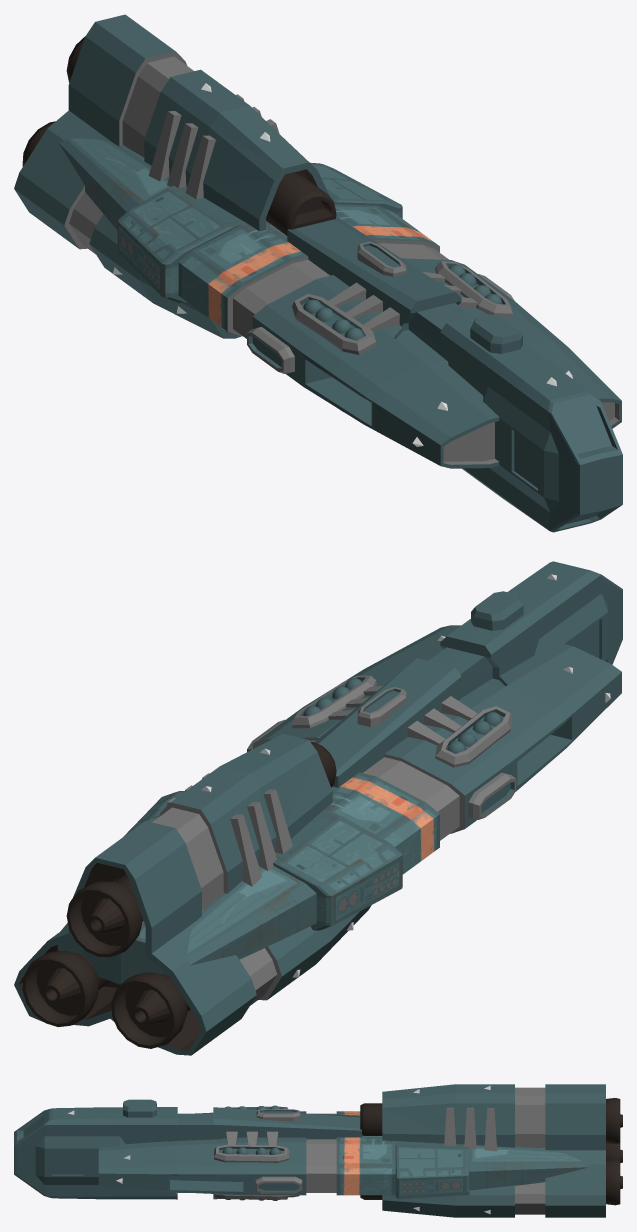
The picture shows the model from 3 angles, top to bottom: view 1: azimuth 30°, elevation 25°; view 2: azimuth 150°, elevation 25°; view 3: azimuth 270°, elevation 25°; orthographic projection. The views are drawn at different scales.
Visible parts, largest first — view 1: Merged ship; view 2: Merged ship; view 3: Merged ship.
Boxes of the visible parts, x1,y1,x2,y2 form: Merged ship: (14, 14, 622, 532); Merged ship: (14, 561, 622, 1055); Merged ship: (14, 1084, 622, 1217).
Size of the model in its own units: 23.99 by 18.08 by 87.47.
15 materials, 1 textured.
